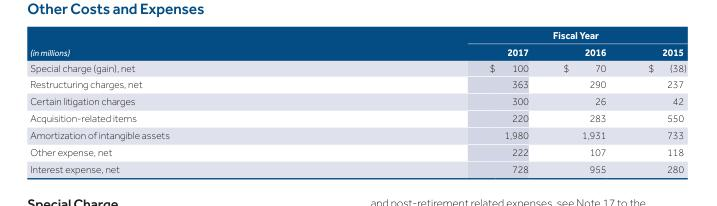table: (29, 28, 685, 175)
table column: (29, 28, 328, 175), (328, 28, 545, 175), (545, 28, 626, 175), (626, 28, 685, 175)
table column header: (29, 28, 685, 61)
table row: (29, 43, 685, 61), (29, 93, 685, 110), (29, 110, 685, 127), (29, 127, 685, 144), (29, 144, 685, 161), (29, 61, 685, 77), (29, 77, 685, 93), (29, 28, 685, 43), (29, 161, 685, 175)
table spanning cell: (29, 28, 328, 61), (328, 28, 685, 43)
